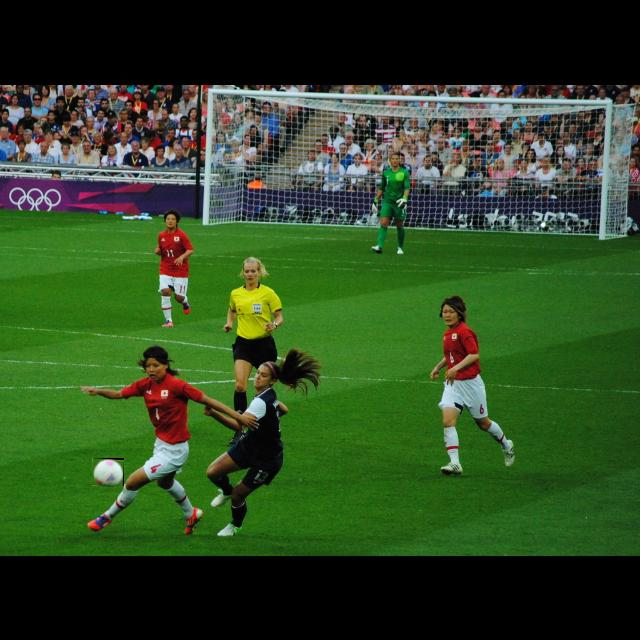Football: (92, 458, 124, 486)
